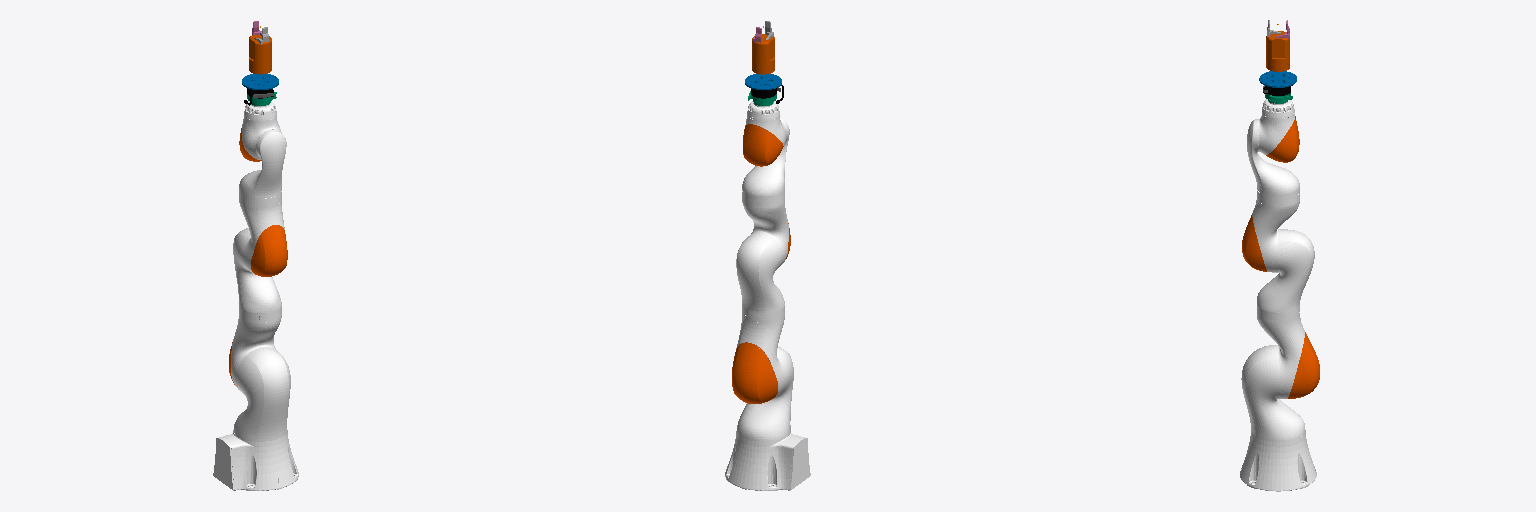
robot.urdf — kuka_robotiq:
<robot name="kuka_robotiq" version="1.6">

  <!-- ========================================================================= -->
  <!-- ================================= Links ================================= -->
  <!-- ========================================================================= -->

  <link name="world" />

  <link name="arm_iiwa_link_0">
    <inertial>
      <origin rpy="0 -0 0" xyz="-0.1 0 0.07" />
      <mass value="5" />
      <inertia ixx="0.05" ixy="0" ixz="0" iyy="0.06" iyz="0" izz="0.03" />
    </inertial>
    <collision name="iiwa_link_0_collision">
      <origin rpy="0 -0 0" xyz="0 0 0" />
      <geometry>
        <mesh filename="iiwa14/link_0.dae" scale="1 1 1">
        </mesh>
      </geometry>
    </collision>
    <visual name="iiwa_link_0_visual">
      <origin rpy="0 -0 0" xyz="0 0 0" />
      <geometry>
        <mesh filename="iiwa14/link_0.dae" scale="1 1 1">
        </mesh>
      </geometry>
    </visual>
  </link>

  <link name="arm_iiwa_link_1">
    <inertial>
      <origin rpy="0 -0 0" xyz="0 -0.03 0.12" />
      <mass value="4" />
      <inertia ixx="0.1" ixy="0" ixz="0" iyy="0.09" iyz="0" izz="0.02" />
    </inertial>
    <collision name="iiwa_link_1_collision">
      <origin rpy="0 -0 0" xyz="0 0 0" />
      <geometry>
        <mesh filename="iiwa14/link_1.dae" scale="1 1 1">
        </mesh>
      </geometry>
    </collision>
    <visual name="iiwa_link_1_visual">
      <origin rpy="0 -0 0" xyz="0 0 0" />
      <geometry>
        <mesh filename="iiwa14/link_1.dae" scale="1 1 1">
        </mesh>
      </geometry>
    </visual>
  </link>

  <link name="arm_iiwa_link_2">
    <inertial>
      <origin rpy="0 -0 0" xyz="0.0003 0.059 0.042" />
      <mass value="4" />
      <inertia ixx="0.05" ixy="0" ixz="0" iyy="0.018" iyz="0" izz="0.044" />
    </inertial>
    <collision name="iiwa_link_2_collision">
      <origin rpy="0 -0 0" xyz="0 0 0" />
      <geometry>
        <mesh filename="iiwa14/link_2.dae" scale="1 1 1">
        </mesh>
      </geometry>
    </collision>
    <visual name="iiwa_link_2_visual">
      <origin rpy="0 -0 0" xyz="0 0 0" />
      <geometry>
        <mesh filename="iiwa14/link_2.dae" scale="1 1 1">
        </mesh>
      </geometry>
    </visual>
  </link>

  <link name="arm_iiwa_link_3">
    <inertial>
      <origin rpy="0 -0 0" xyz="0 0.03 0.13" />
      <mass value="3" />
      <inertia ixx="0.08" ixy="0" ixz="0" iyy="0.075" iyz="0" izz="0.01" />
    </inertial>
    <collision name="iiwa_link_3_collision">
      <origin rpy="0 -0 0" xyz="0 0 0" />
      <geometry>
        <mesh filename="iiwa14/link_3.dae" scale="1 1 1">
        </mesh>
      </geometry>
    </collision>
    <visual name="iiwa_link_3_visual">
      <origin rpy="0 -0 0" xyz="0 0 0" />
      <geometry>
        <mesh filename="iiwa14/link_3.dae" scale="1 1 1">
        </mesh>
      </geometry>
    </visual>
  </link>

  <link name="arm_iiwa_link_4">
    <inertial>
      <origin rpy="0 0 0" xyz="0 0.067 0.034" />
      <mass value="2.7" />
      <inertia ixx="0.03" ixy="0" ixz="0" iyy="0.01" iyz="0" izz="0.029" />
    </inertial>
    <collision name="iiwa_link_4_collision">
      <origin rpy="0 -0 0" xyz="0 0 0" />
      <geometry>
        <mesh filename="iiwa14/link_4.dae" scale="1 1 1">
        </mesh>
      </geometry>
    </collision>
    <visual name="iiwa_link_4_visual">
      <origin rpy="0 -0 0" xyz="0 0 0" />
      <geometry>
        <mesh filename="iiwa14/link_4.dae" scale="1 1 1">
        </mesh>
      </geometry>
    </visual>
  </link>

  <link name="arm_iiwa_link_5">
    <inertial>
      <origin rpy="0 0 0" xyz="0.0001 0.021 0.076" />
      <mass value="1.7" />
      <inertia ixx="0.02" ixy="0" ixz="0" iyy="0.018" iyz="0" izz="0.005" />
    </inertial>
    <collision name="iiwa_link_5_collision">
      <origin rpy="0 0 0" xyz="0 0 0" />
      <geometry>
        <mesh filename="iiwa14/link_5.dae" scale="1 1 1">
        </mesh>
      </geometry>
    </collision>
    <visual name="iiwa_link_5_visual">
      <origin rpy="0 -0 0" xyz="0 0 0" />
      <geometry>
        <mesh filename="iiwa14/link_5.dae" scale="1 1 1">
        </mesh>
      </geometry>
    </visual>
  </link>

  <link name="arm_iiwa_link_6">
    <inertial>
      <origin rpy="0 0 0" xyz="0 0.0006 0.0004" />
      <mass value="1.8" />
      <inertia ixx="0.005" ixy="0" ixz="0" iyy="0.0036" iyz="0" izz="0.0047" />
    </inertial>
    <collision name="iiwa_link_6_collision">
      <origin rpy="0 -0 0" xyz="0 0 0" />
      <geometry>
        <mesh filename="iiwa14/link_6.dae" scale="1 1 1">
        </mesh>
      </geometry>
    </collision>
    <visual name="iiwa_link_6_visual">
      <origin rpy="0 -0 0" xyz="0 0 0" />
      <geometry>
        <mesh filename="iiwa14/link_6.dae" scale="1 1 1">
        </mesh>
      </geometry>
    </visual>
  </link>

  <link name="arm_iiwa_link_7">
    <inertial>
      <origin rpy="0 -0 0" xyz="0 0 0.02" />
      <mass value="0.3" />
      <inertia ixx="0.001" ixy="0" ixz="0" iyy="0.001" iyz="0" izz="0.001" />
    </inertial>
    <collision name="iiwa_link_7_collision">
      <origin rpy="0 -0 0" xyz="0 0 0" />
      <geometry>
        <mesh filename="iiwa14/link_7.dae" scale="1 1 1">
        </mesh>
      </geometry>
    </collision>
    <visual name="iiwa_link_7_visual">
      <origin rpy="0 -0 0" xyz="0 0 0" />
      <geometry>
        <mesh filename="iiwa14/link_7.dae" scale="1 1 1">
        </mesh>
      </geometry>
    </visual>
  </link>

  <link name="toolchanger_base_link">
    <inertial>
      <mass value="0.6" />
      <inertia ixx="0.00530833" ixy="0" ixz="0" iyy="0.00530833" iyz="0" izz="0.0002" />
    </inertial>
    <visual name="visual1">
      <geometry>
        <mesh filename="millibar_toolchanger/millibar_toolchanger.dae">
        </mesh>
      </geometry>
    </visual>
    <collision name="collision1">
      <origin rpy="0 0 0" xyz="0 0 0" />
      <geometry>
        <mesh filename="millibar_toolchanger/millibar_toolchanger.dae">
        </mesh>
      </geometry>
    </collision>
  </link>

  <link name="toolchanger_tool_attach">
    <inertial>
      <mass value="0.4" />
      <inertia ixx="0.006875" ixy="0" ixz="0" iyy="0.006500" iyz="0" izz="0.011090" />
    </inertial>
    <visual name="visual2">
      <geometry>
        <mesh filename="millibar_toolchanger/millibar_toolchanger_ur3510.stl">
        </mesh>
      </geometry>
    </visual>
    <collision name="collision2">
      <geometry>
        <mesh filename="millibar_toolchanger/millibar_toolchanger_ur3510.stl">
        </mesh>
      </geometry>
    </collision>
  </link>

  <link name="force_torqe_sensor_base_link">
    <inertial>
      <mass value="0.1" />
      <inertia ixx="0.00530833" ixy="0" ixz="0" iyy="0.00530833" iyz="0" izz="0.0002" />
    </inertial>
    <visual name="visual1">
      <geometry>
        <mesh filename="axia_assembly/axia_assembly.dae">
        </mesh>
      </geometry>
    </visual>
    <collision name="collision1">
      <origin rpy="0 0 0" xyz="0 0 0" />
      <geometry>
        <mesh filename="axia_assembly/axia_assembly.dae">
        </mesh>
      </geometry>
    </collision>
  </link>

  <link name="force_torqe_sensor_tool_attach">
    <inertial>
      <mass value="0.1" />
      <inertia ixx="0.00530833" ixy="0" ixz="0" iyy="0.00530833" iyz="0" izz="0.0002" />
    </inertial>
    <visual name="visual2">
      <geometry>
        <mesh filename="axia_assembly/axia_assembly_adapter.stl">
        </mesh>
      </geometry>
    </visual>
    <collision name="collision2">
      <geometry>
        <mesh filename="axia_assembly/axia_assembly_adapter.stl">
        </mesh>
      </geometry>
    </collision>
  </link>

  <link name="robotiq_hande_gripper_body">
    <inertial>
      <mass value="1" />
      <inertia ixx="0.1" ixy="0" ixz="0" iyy="0.1" iyz="0" izz="0.1" />
    </inertial>
    <visual name="visual1">
      <geometry>
        <mesh filename="robotiq_hande/robotiq_hande_body_c01.stl">
        </mesh>
      </geometry>
    </visual>
    <visual name="visual2">
      <geometry>
        <mesh filename="robotiq_hande/robotiq_hande_body_c02.stl">
        </mesh>
      </geometry>
    </visual>
    <collision name="collision1">
      <origin rpy="0 0 0" xyz="0 0 0" />
      <geometry>
        <mesh filename="robotiq_hande/robotiq_hande_body_c01.stl">
        </mesh>
      </geometry>
    </collision>
    <collision name="collision2">
      <origin rpy="0 0 0" xyz="0 0 0" />
      <geometry>
        <mesh filename="robotiq_hande/robotiq_hande_body_c02.stl">
        </mesh>
      </geometry>
    </collision>
  </link>

  <link name="robotiq_hande_gripper_finger1">
    <inertial>
      <mass value="0.1" />
      <inertia ixx="0.1" ixy="0" ixz="0" iyy="0.1" iyz="0" izz="0.1" />
    </inertial>
    <visual name="visual1">
      <origin rpy="0 0 0" xyz="0 0 0" />
      <geometry>
        <mesh filename="robotiq_hande/robotiq_hande_finger_c01.stl">
        </mesh>
      </geometry>
    </visual>
    <visual name="visual2">
      <origin rpy="0 0 0" xyz="0 0 0" />
      <geometry>
        <mesh filename="robotiq_hande/robotiq_hande_finger_c02.stl">
        </mesh>
      </geometry>
    </visual>
    <visual name="visual3">
      <origin rpy="0 0 0" xyz="0 0 0" />
      <geometry>
        <mesh filename="robotiq_hande/robotiq_hande_finger_c03.stl">
        </mesh>
      </geometry>
    </visual>
    <visual name="visual4">
      <origin rpy="0 0 0" xyz="0 0 0" />
      <geometry>
        <mesh filename="robotiq_hande/robotiq_hande_finger_c04.stl">
        </mesh>
      </geometry>
    </visual>
    <collision name="collision1">
      <origin rpy="0 0 0" xyz="0 0 0" />
      <geometry>
        <mesh filename="robotiq_hande/robotiq_hande_finger_c01.stl">
        </mesh>
      </geometry>
    </collision>
    <collision name="collision2">
      <origin rpy="0 0 0" xyz="0 0 0" />
      <geometry>
        <mesh filename="robotiq_hande/robotiq_hande_finger_c02.stl">
        </mesh>
      </geometry>
    </collision>
    <collision name="collision3">
      <origin rpy="0 0 0" xyz="0 0 0" />
      <geometry>
        <mesh filename="robotiq_hande/robotiq_hande_finger_c03.stl">
        </mesh>
      </geometry>
    </collision>
    <collision name="collision4">
      <origin rpy="0 0 0" xyz="0 0 0" />
      <geometry>
        <mesh filename="robotiq_hande/robotiq_hande_finger_c04.stl">
        </mesh>
      </geometry>
    </collision>
  </link>

  <link name="robotiq_hande_gripper_finger2">
    <inertial>
      <mass value="0.1" />
      <inertia ixx="0.1" ixy="0" ixz="0" iyy="0.1" iyz="0" izz="0.1" />
    </inertial>
    <visual name="visual1">
      <origin rpy="0 0 3.14157" xyz="0 0 0" />
      <geometry>
        <mesh filename="robotiq_hande/robotiq_hande_finger_c01.stl">
        </mesh>
      </geometry>
    </visual>
    <visual name="visual2">
      <origin rpy="0 0 3.14157" xyz="0 0 0" />
      <geometry>
        <mesh filename="robotiq_hande/robotiq_hande_finger_c02.stl">
        </mesh>
      </geometry>
    </visual>
    <visual name="visual3">
      <origin rpy="0 0 3.14157" xyz="0 0 0" />
      <geometry>
        <mesh filename="robotiq_hande/robotiq_hande_finger_c03.stl">
        </mesh>
      </geometry>
    </visual>
    <visual name="visual4">
      <origin rpy="0 0 3.14157" xyz="0 0 0" />
      <geometry>
        <mesh filename="robotiq_hande/robotiq_hande_finger_c04.stl">
        </mesh>
      </geometry>
    </visual>
    <collision name="collision1">
      <origin rpy="0 0 3.14157" xyz="0 0 0" />
      <geometry>
        <mesh filename="robotiq_hande/robotiq_hande_finger_c01.stl">
        </mesh>
      </geometry>
    </collision>
    <collision name="collision2">
      <origin rpy="0 0 3.14157" xyz="0 0 0" />
      <geometry>
        <mesh filename="robotiq_hande/robotiq_hande_finger_c02.stl">
        </mesh>
      </geometry>
    </collision>
    <collision name="collision3">
      <origin rpy="0 0 3.14157" xyz="0 0 0" />
      <geometry>
        <mesh filename="robotiq_hande/robotiq_hande_finger_c03.stl">
        </mesh>
      </geometry>
    </collision>
    <collision name="collision4">
      <origin rpy="0 0 3.14157" xyz="0 0 0" />
      <geometry>
        <mesh filename="robotiq_hande/robotiq_hande_finger_c04.stl">
        </mesh>
      </geometry>
    </collision>
  </link>

  <!-- ========================================================================== -->
  <!-- ================================= Joints ================================= -->
  <!-- ========================================================================== -->

  <joint name="world_iiwa_joint" type="fixed">
    <child link="arm_iiwa_link_0" />
    <parent link="world" />
  </joint>

  <joint name="iiwa_joint_1" type="revolute">
    <child link="arm_iiwa_link_1" />
    <parent link="arm_iiwa_link_0" />
    <limit effort="320" lower="-2.96" upper="2.96" velocity="10" />
    <dynamics damping="2.0" friction="1.0" spring_reference="0" spring_stiffness="0" />
    <axis xyz="0 0 1" />
    <origin rpy="0.0 0.0 0.0" xyz="0.0 0.0 0.1575" />
  </joint>
  
  <joint name="iiwa_joint_2" type="revolute">
    <child link="arm_iiwa_link_2" />
    <parent link="arm_iiwa_link_1" />
    <limit effort="320" lower="-2.09" upper="2.09" velocity="10" />
    <dynamics damping="2.0" friction="1.0" spring_reference="0" spring_stiffness="0" />
    <axis xyz="0 0 1" />
    <origin rpy="1.5708 -0.0 3.14159" xyz="0.0 0.0 0.20249999999999999" />
  </joint>

  <joint name="iiwa_joint_3" type="revolute">
    <child link="arm_iiwa_link_3" />
    <parent link="arm_iiwa_link_2" />
    <limit effort="176" lower="-2.96" upper="2.96" velocity="10" />
    <dynamics damping="2.0" friction="1.0" spring_reference="0" spring_stiffness="0" />
    <axis xyz="0 0 1" />
    <origin rpy="1.5708 -2.6535897933379425e-06 3.1415926535800462" xyz="9.116907345086933e-29 0.20449999999862045 -7.511704436343742e-07" />
  </joint>

  <joint name="iiwa_joint_4" type="revolute">
    <child link="arm_iiwa_link_4" />
    <parent link="arm_iiwa_link_3" />
    <limit effort="176" lower="-2.09" upper="2.09" velocity="10" />
    <dynamics damping="2.0" friction="1.0" spring_reference="0" spring_stiffness="0" />
    <axis xyz="0 0 1" />
    <origin rpy="1.5708 -0.0 0.0" xyz="0.0 0.0 0.21550000000000002" />
  </joint>

  <joint name="iiwa_joint_5" type="revolute">
    <child link="arm_iiwa_link_5" />
    <parent link="arm_iiwa_link_4" />
    <limit effort="110" lower="-2.96" upper="2.96" velocity="10" />
    <dynamics damping="2.0" friction="1.0" spring_reference="0" spring_stiffness="0" />
    <axis xyz="0 0 1" />
    <origin rpy="1.5708 2.6535897933379425e-06 -3.1415926535800462" xyz="0.0 0.18449999999875533 -6.777063415674434e-07" />
  </joint>

  <joint name="iiwa_joint_6" type="revolute">
    <child link="arm_iiwa_link_6" />
    <parent link="arm_iiwa_link_5" />
    <limit effort="40" lower="-2.09" upper="2.09" velocity="10" />
    <dynamics damping="2.0" friction="1.0" spring_reference="0" spring_stiffness="0" />
    <axis xyz="0 0 1" />
    <origin rpy="1.5708 -0.0 -1.7565425622120319e-22" xyz="0.0 0.0 0.2154999999999999" />
  </joint>

  <joint name="iiwa_joint_7" type="revolute">
    <child link="arm_iiwa_link_7" />
    <parent link="arm_iiwa_link_6" />
    <limit effort="40" lower="-3.0543300000000002" upper="3.0543300000000002" velocity="10" />
    <dynamics damping="2.0" friction="1.0" spring_reference="0" spring_stiffness="0" />
    <axis xyz="0 0 1" />
    <origin rpy="1.5708 -2.6535897933379425e-06 3.1415926535800462" xyz="1.9014789953427065e-27 0.08099999999945351 -2.9752961337107144e-07" />
  </joint>

  <joint name="toolchanger_joint" type="fixed">
    <parent link="arm_iiwa_link_7" />
    <child link="toolchanger_base_link" />
    <origin rpy="0.0 -0.0 -1.5708" xyz="0.0 0.0 0.074261" />
  </joint>

  <joint name="attach_joint" type="fixed">
    <parent link="toolchanger_base_link" />
    <child link="toolchanger_tool_attach" />
    <origin rpy="0.0 -0.0 3.617441230323139e-22" xyz="0.0 0.0 0.0" />
  </joint>

  <joint name="force_torqe_sensor_joint" type="fixed">
    <parent link="toolchanger_tool_attach" />
    <child link="force_torqe_sensor_base_link" />
    <origin rpy="0.0 -0.0 3.617441230323139e-22" xyz="0.0 0.0 0.03695699999999991" />
  </joint>

  <joint name="attach_joint_" type="fixed">
    <parent link="force_torqe_sensor_base_link" />
    <child link="force_torqe_sensor_tool_attach" />
    <origin rpy="0.0 -0.0 3.617441230323139e-22" xyz="0.0 0.0 0.0" />
  </joint>

  <joint name="axia_gripper_joint" type="fixed">
    <parent link="force_torqe_sensor_tool_attach" />
    <child link="robotiq_hande_gripper_body" />
    <origin rpy="0.0 -0.0 -1.5707889803895865" xyz="0.0 0.0 -0.027666999999999914" />
  </joint>

  <joint name="finger1" type="prismatic">
    <parent link="robotiq_hande_gripper_body" />
    <child link="robotiq_hande_gripper_finger1" />
    <limit lower="0" upper="0.025" effort='100'  velocity="10" />
    <axis xyz="0 1 0" />
    <origin rpy="0.0 -0.0 -3.617441230323139e-22" xyz="0.0 0.0 0.0" />
  </joint>

  <joint name="finger2" type="prismatic">
    <parent link="robotiq_hande_gripper_body" />
    <child link="robotiq_hande_gripper_finger2" />
    <limit lower="0" upper="0.025" effort='100'  velocity="10" />
    <axis xyz="0 -1 0" />
    <origin rpy="0.0 -0.0 -3.617441230323139e-22" xyz="0.0 0.0 0.0" />
  </joint>

  <!-- ========================================================================= -->
  <!-- ========================= Virtual Grasp Target ========================== -->
  <!-- ========================================================================= -->

  <link name="grasptarget">
    <inertial>
      <origin rpy="0 0 0" xyz="0 0 0"/>
       <mass value="0.001"/>
       <inertia ixx="0.1" ixy="0" ixz="0" iyy="0.1" iyz="0" izz="0.1"/>
    </inertial>
    <visual>
      <geometry>
        <sphere radius="0.003"/>
      </geometry>
      <color rgba="1. 0. 0. 1.0"/>
    </visual>
  </link>

  <joint name="grasp_target" type="fixed">
    <parent link="robotiq_hande_gripper_body"/>
    <child link="grasptarget"/>
    <origin rpy="0 0 0" xyz="0 0 0.22"/>
  </joint>

</robot>

--- Facts derived from the render (not from the file) ---
The picture shows the robot from 3 angles, left to right: view 1: azimuth 30°, elevation 25°; view 2: azimuth 150°, elevation 25°; view 3: azimuth 270°, elevation 25°; orthographic projection.
Robot: kuka_robotiq — 17 links, 16 joints (7 revolute, 2 prismatic, 7 fixed); root link world; default pose: all joints at 0.
Visible links, largest first — view 1: arm_iiwa_link_1, arm_iiwa_link_0, arm_iiwa_link_4, arm_iiwa_link_5, arm_iiwa_link_3, arm_iiwa_link_2, arm_iiwa_link_6, robotiq_hande_gripper_body; view 2: arm_iiwa_link_0, arm_iiwa_link_2, arm_iiwa_link_3, arm_iiwa_link_1, arm_iiwa_link_5, arm_iiwa_link_6, arm_iiwa_link_4, robotiq_hande_gripper_body; view 3: arm_iiwa_link_1, arm_iiwa_link_3, arm_iiwa_link_0, arm_iiwa_link_2, arm_iiwa_link_4, arm_iiwa_link_5, arm_iiwa_link_6, robotiq_hande_gripper_body.
Boxes of the visible links, left/top/right/bottom form: arm_iiwa_link_1: left=233, top=347, right=290, bottom=441; arm_iiwa_link_0: left=213, top=429, right=298, bottom=490; arm_iiwa_link_4: left=239, top=201, right=287, bottom=276; arm_iiwa_link_5: left=239, top=130, right=286, bottom=207; arm_iiwa_link_3: left=233, top=228, right=281, bottom=322; arm_iiwa_link_2: left=229, top=316, right=281, bottom=393; arm_iiwa_link_6: left=239, top=116, right=281, bottom=161; robotiq_hande_gripper_body: left=249, top=35, right=271, bottom=74; arm_iiwa_link_0: left=725, top=431, right=810, bottom=490; arm_iiwa_link_2: left=732, top=316, right=786, bottom=403; arm_iiwa_link_3: left=736, top=232, right=784, bottom=322; arm_iiwa_link_1: left=737, top=347, right=793, bottom=441; arm_iiwa_link_5: left=742, top=116, right=789, bottom=207; arm_iiwa_link_6: left=743, top=116, right=786, bottom=166; arm_iiwa_link_4: left=742, top=201, right=790, bottom=268; robotiq_hande_gripper_body: left=752, top=34, right=774, bottom=74; arm_iiwa_link_1: left=1241, top=345, right=1305, bottom=441; arm_iiwa_link_3: left=1257, top=229, right=1314, bottom=321; arm_iiwa_link_0: left=1240, top=431, right=1316, bottom=491; arm_iiwa_link_2: left=1257, top=315, right=1319, bottom=398; arm_iiwa_link_4: left=1242, top=199, right=1299, bottom=272; arm_iiwa_link_5: left=1247, top=119, right=1299, bottom=206; arm_iiwa_link_6: left=1259, top=113, right=1299, bottom=162; robotiq_hande_gripper_body: left=1266, top=31, right=1289, bottom=71.
Size in the robot's own frame: 0.2572 by 0.2535 by 1.57 metres.
21 mesh visuals loaded from 18 distinct referenced files (8 binary STL, 9 Collada DAE); not drawn: 1 (reference not matched to a file when rendering).